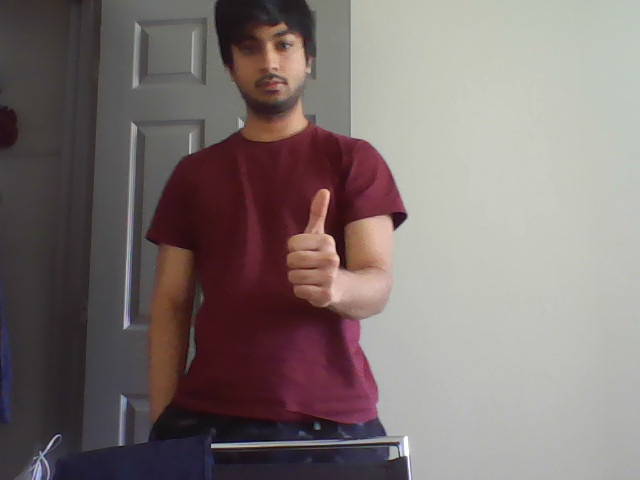confirm: (284, 187, 341, 313)
